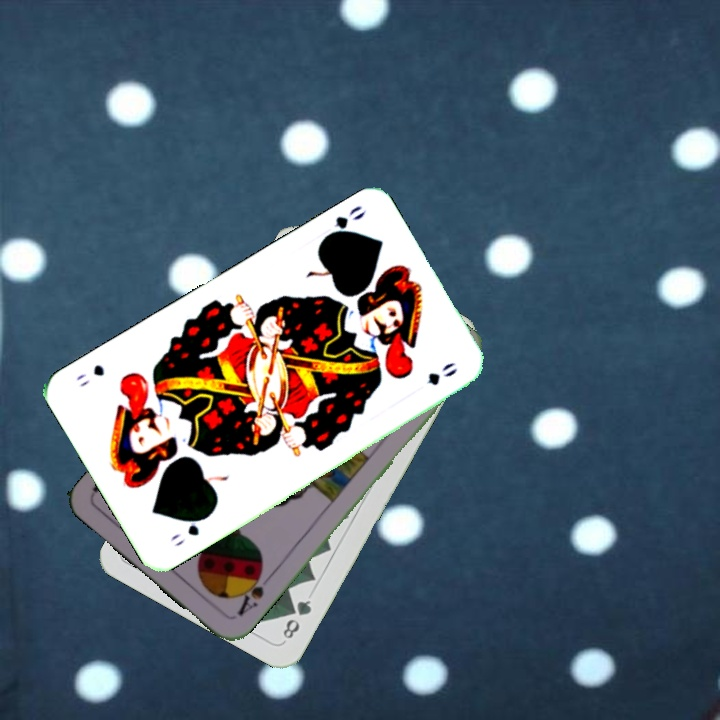G8: (278, 595, 314, 644)
GO: (317, 201, 369, 244), (166, 511, 212, 549)
SA: (233, 565, 275, 619)
